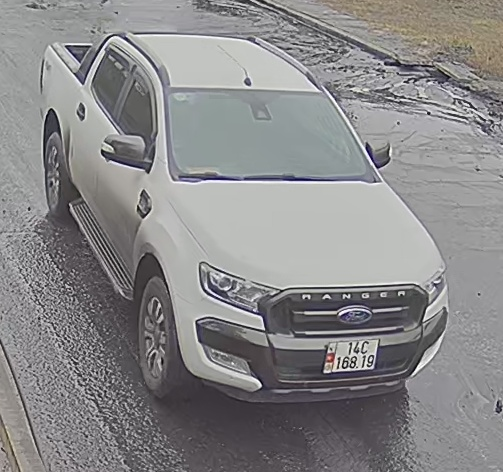vehicle plate: (321, 337, 385, 373)
